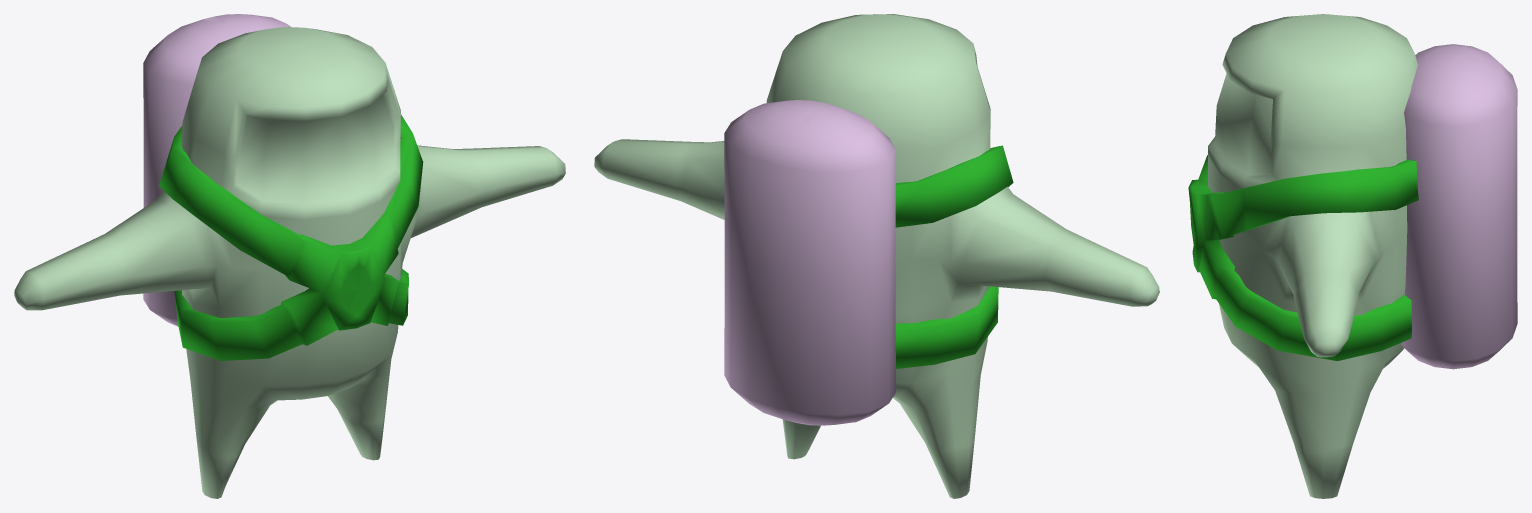
File: jammen.fbx
The picture shows the model from 3 angles, left to right: view 1: azimuth 30°, elevation 25°; view 2: azimuth 150°, elevation 25°; view 3: azimuth 270°, elevation 25°; orthographic projection. The views are drawn at different scales.
Visible parts, largest first — view 1: jamman:jamman:suit; view 2: jamman:jamman:suit; view 3: jamman:jamman:suit.
Part boxes in pixels (x1,y1,x2,y2): jamman:jamman:suit: (14,14,565,498); jamman:jamman:suit: (594,14,1159,498); jamman:jamman:suit: (1188,14,1517,498).
Bounding box in the file's own units: 225 × 169 × 118.
